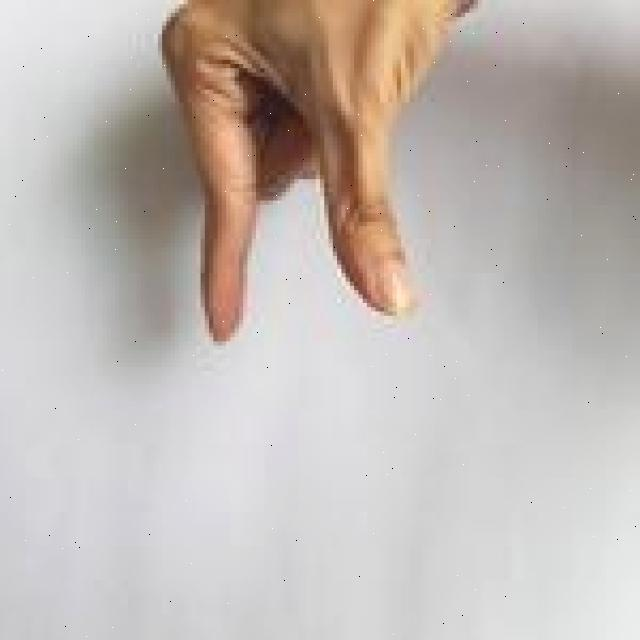Q: (149, 0, 487, 352)
